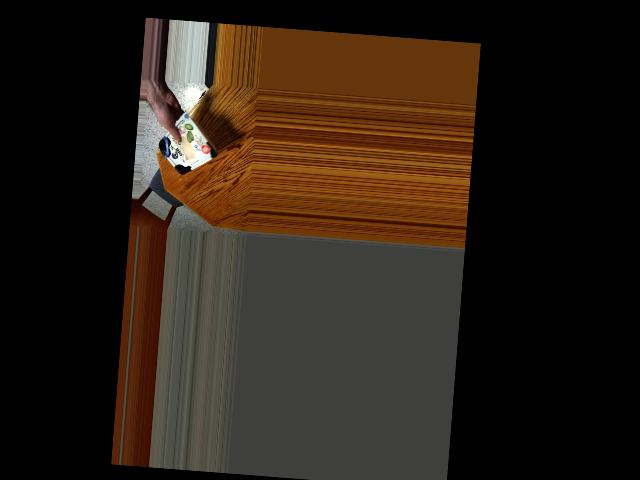cheese: (164, 116, 211, 175)
